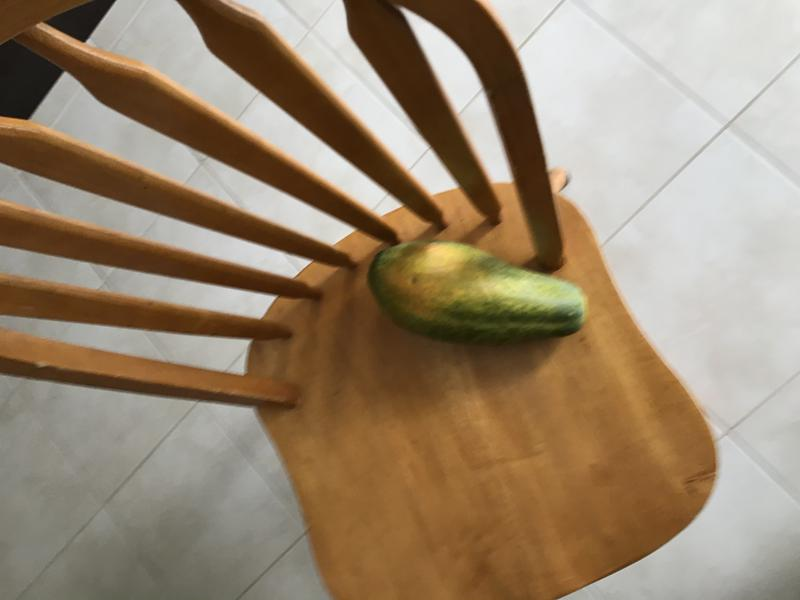papaya: (364, 236, 596, 354)
